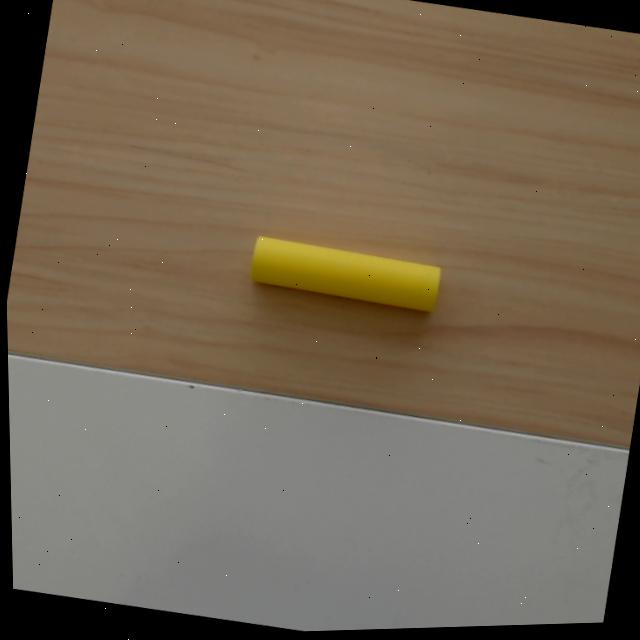Silinder-Kuning-10025: (248, 234, 441, 312)
